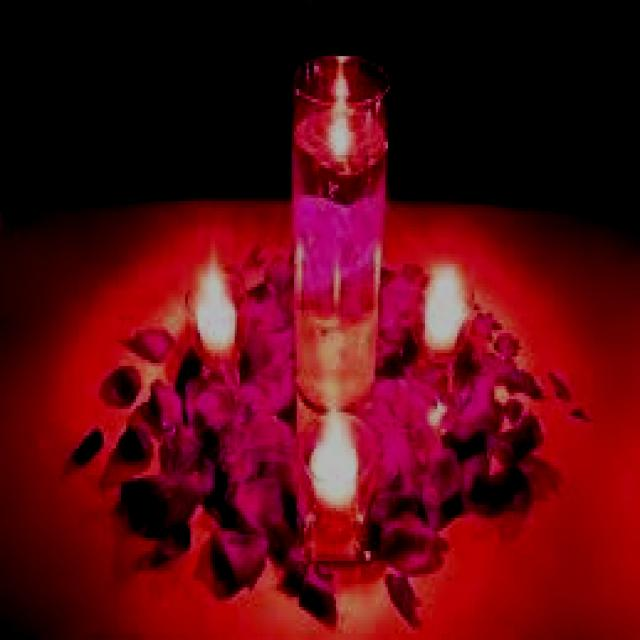fire: (185, 250, 242, 360), (413, 254, 467, 337), (306, 403, 364, 475), (311, 76, 356, 148)
